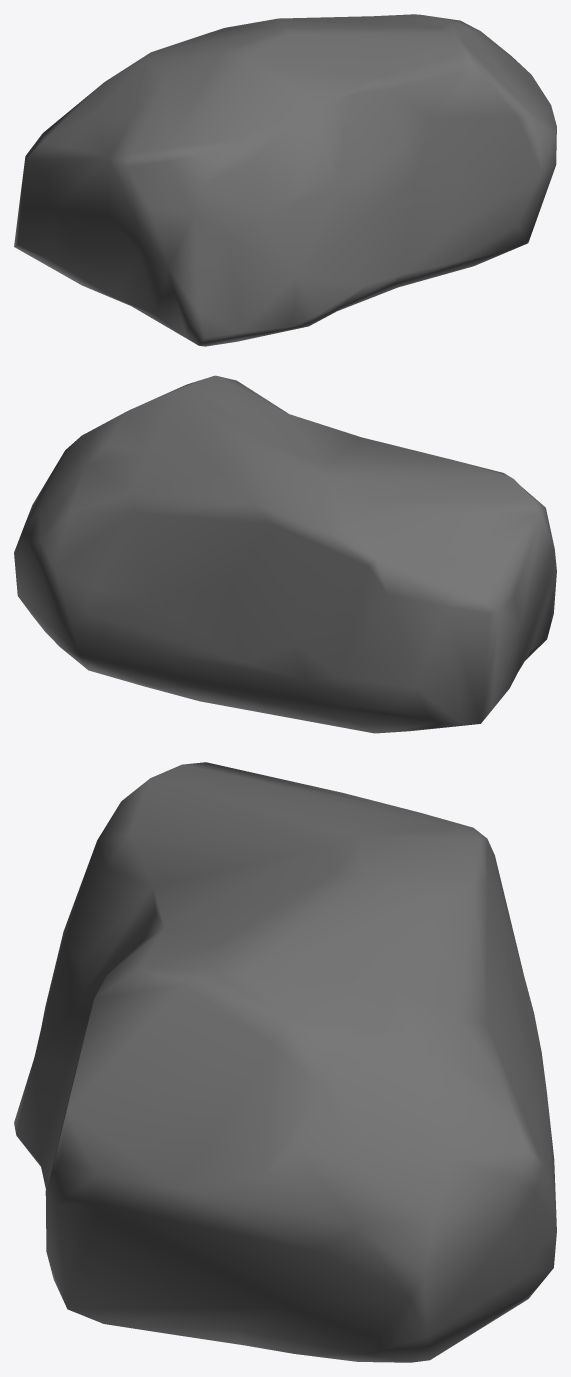
Rendered from Rock_4a.gltf.
3 views of the same model, one above another, from view 1: azimuth 30°, elevation 25°; view 2: azimuth 150°, elevation 25°; view 3: azimuth 270°, elevation 25° (orthographic). The views are drawn at different scales.
Parts seen in each view (by area): view 1: Rock_4a; view 2: Rock_4a; view 3: Rock_4a.
Part boxes in pixels (x1,y1,x2,y2): Rock_4a: (14, 14, 556, 346); Rock_4a: (14, 375, 556, 733); Rock_4a: (14, 762, 556, 1362).
Bounding box in the file's own units: 49.93 × 23.38 × 30.55.
1 material, 1 textured.
